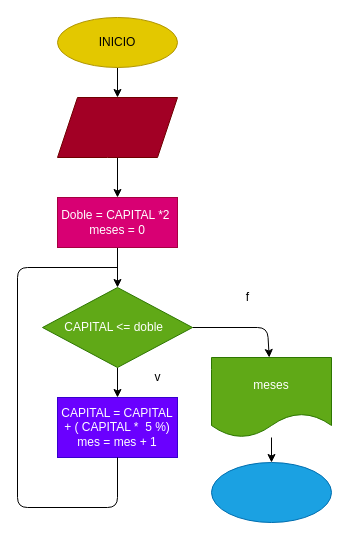
Some shapes in this 349 by 540 pixel diagram are drawn without their labels. Here are the shapes that lost their labels. From the top down, the centre of each, then its label:
At point (117, 127): "CAPITAL".
At point (271, 492): "Fin".
